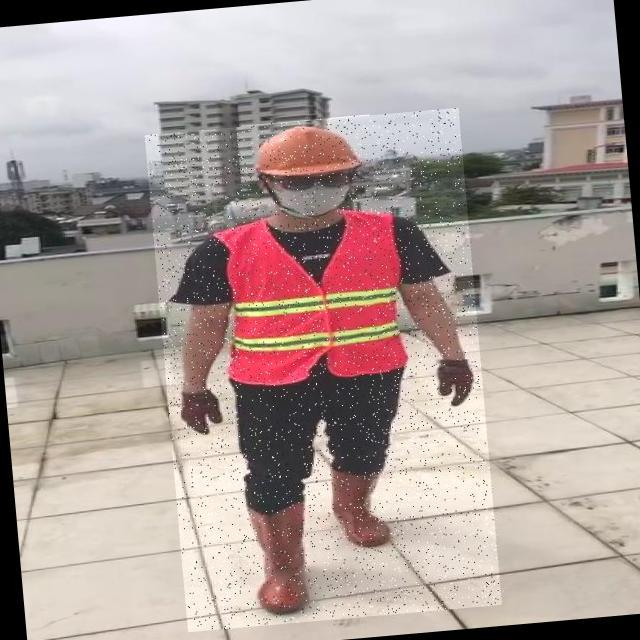Gloves: (436, 358, 481, 408), (180, 389, 228, 434)
Helmet: (241, 114, 374, 182)
Human: (145, 107, 503, 632)
Safety Boot: (243, 499, 322, 614), (328, 462, 399, 549)
Safety Vest: (222, 210, 409, 388)
